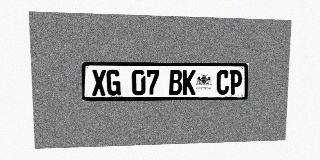0: (132, 70, 145, 95)
7: (146, 70, 159, 95)
B: (169, 70, 182, 95)
C: (216, 70, 229, 95)
G: (106, 70, 121, 96)
K: (182, 70, 196, 95)
P: (229, 70, 242, 95)
X: (92, 69, 106, 96)
